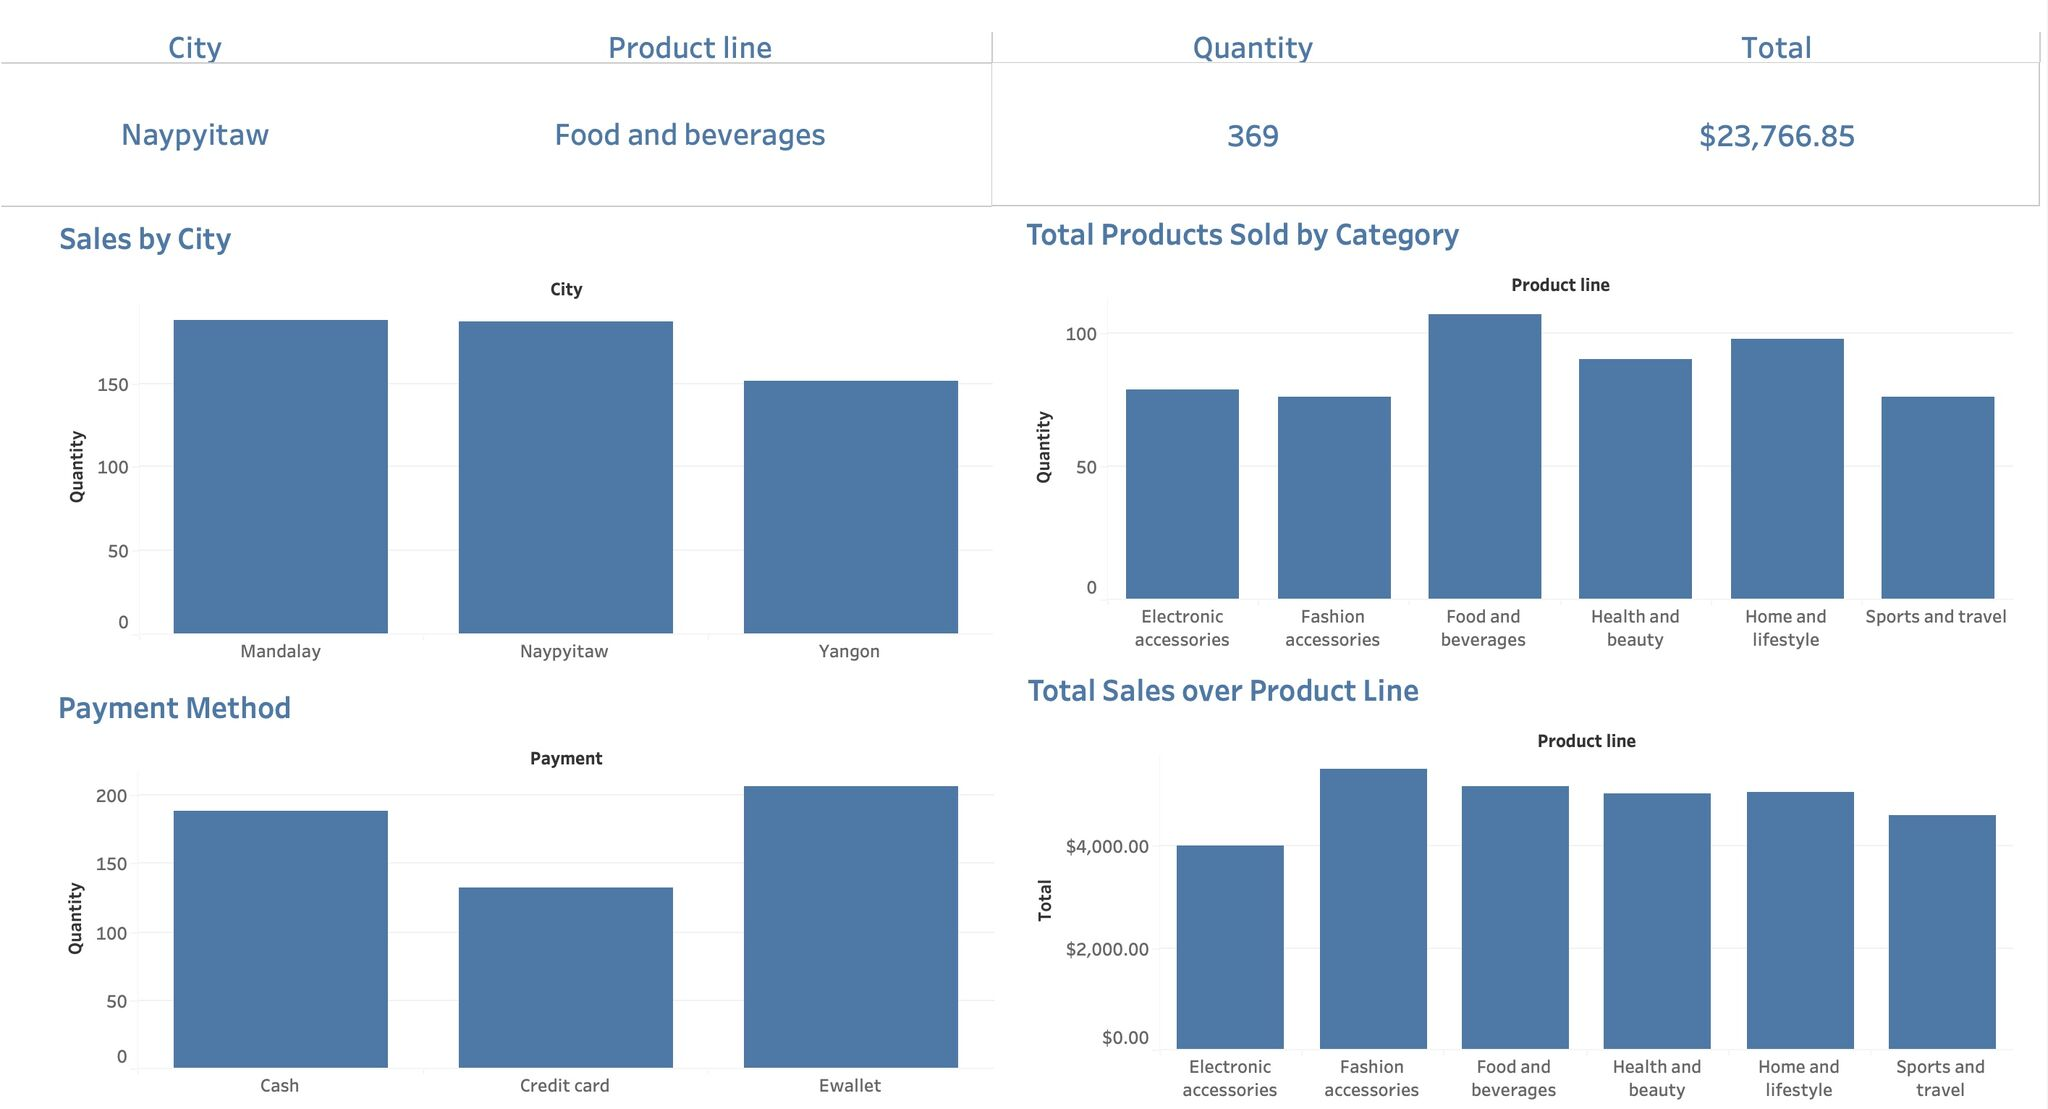

The page's visual inventory and layout, read from the dashboard file:
{"tool":"tableau","page":{"name":"Dashboard 1","canvas":[1000,1000],"units":"permille","ordinal":0},"visuals":[{"type":"worksheet","title":"Summary 1","mark":"Automatic","rows":["City","Product line"],"box":[12.2,12.1,974.8,177.3]},{"type":"worksheet","title":"Total Products Sold by Category","mark":"Automatic","rows":["Quantity"],"cols":["Product line"],"box":[498.8,189.4,484.9,404.6]},{"type":"worksheet","title":"Sales by City","mark":"Automatic","rows":["Quantity"],"cols":["City"],"box":[26,192.4,458.9,407.6]},{"type":"worksheet","title":"Total Sales over Product Line","mark":"Automatic","rows":["Total"],"cols":["Product line"],"box":[499.6,598.5,484.1,400]},{"type":"worksheet","title":"Payment Method","mark":"Automatic","rows":["Quantity"],"cols":["Payment"],"box":[25.2,615.1,460.5,378.8]}]}

Visuals, with their boxes on the dashboard's canvas, which has no fixed pixel size, in thousandths of its width and height (x1, y1, x2, y2). These are canvas units, not pixel positions in the 2048x1109 screenshot, which may show the page scaled, cropped or inside an application window:
"Summary 1" worksheet: (12,12,987,189)
"Total Products Sold by Category" worksheet: (499,189,984,594)
"Sales by City" worksheet: (26,192,485,600)
"Total Sales over Product Line" worksheet: (500,598,984,998)
"Payment Method" worksheet: (25,615,486,994)
